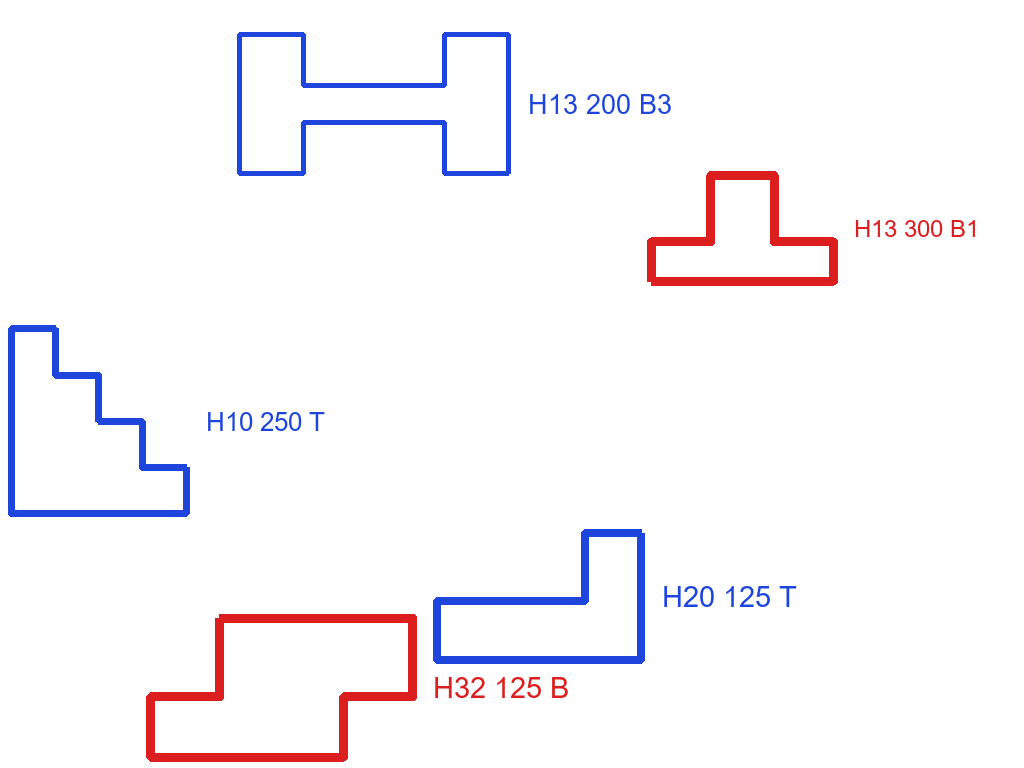shape: (144, 612, 419, 764), (235, 30, 513, 178), (6, 323, 192, 519), (430, 527, 648, 665), (645, 169, 840, 288)
text: (526, 92, 674, 116), (431, 675, 571, 700), (660, 584, 799, 609), (204, 410, 327, 433), (852, 218, 981, 239)
